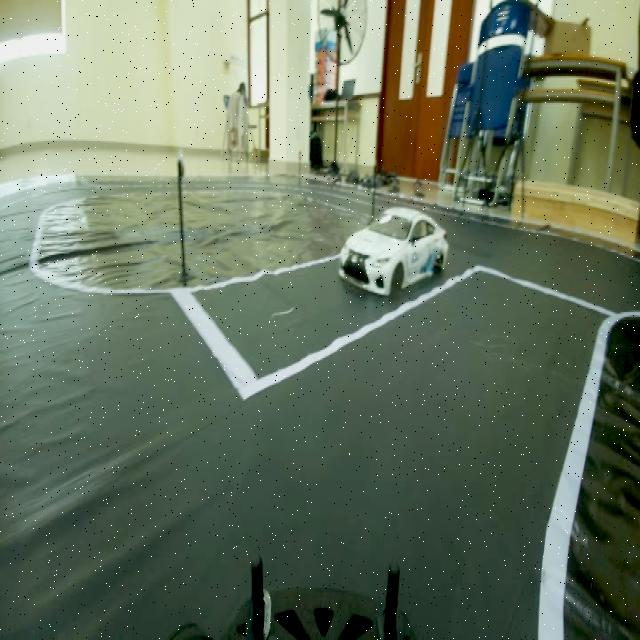car: (335, 198, 453, 299)
